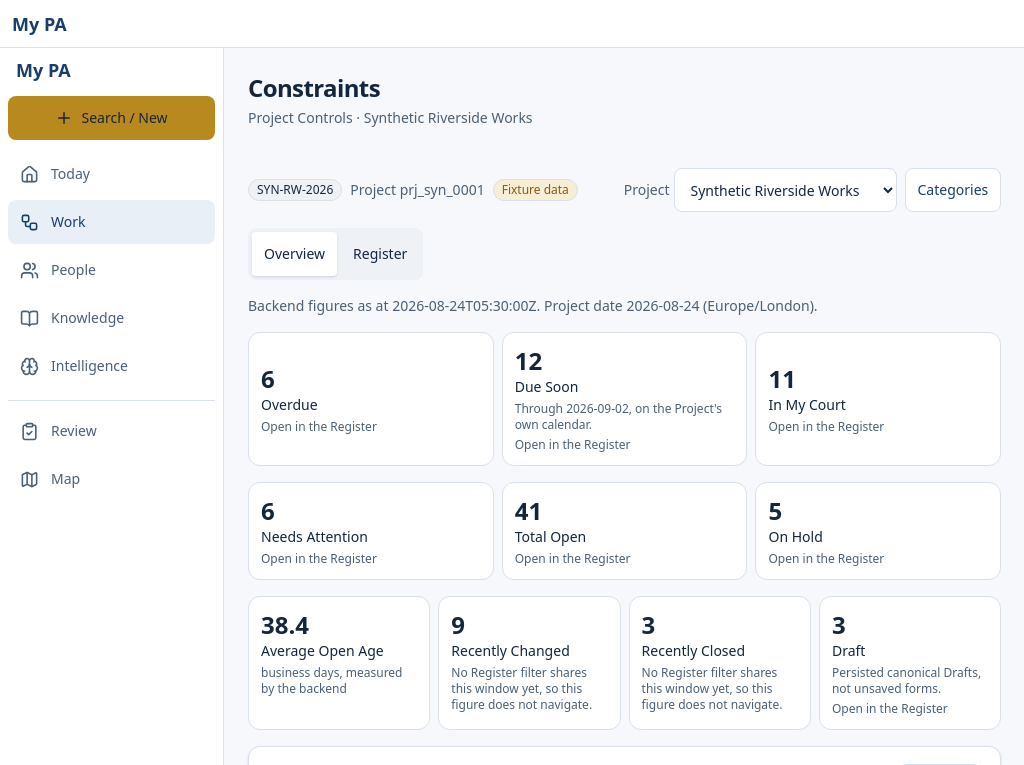
Test: the fixture-only lifecycle surfaces › offers no Category reorder, and says why
What coordinates should you click on to do the following:
click the button with test id "open-categories"
I would click on:
 (953, 190)
Its box is [904,168,1001,212].
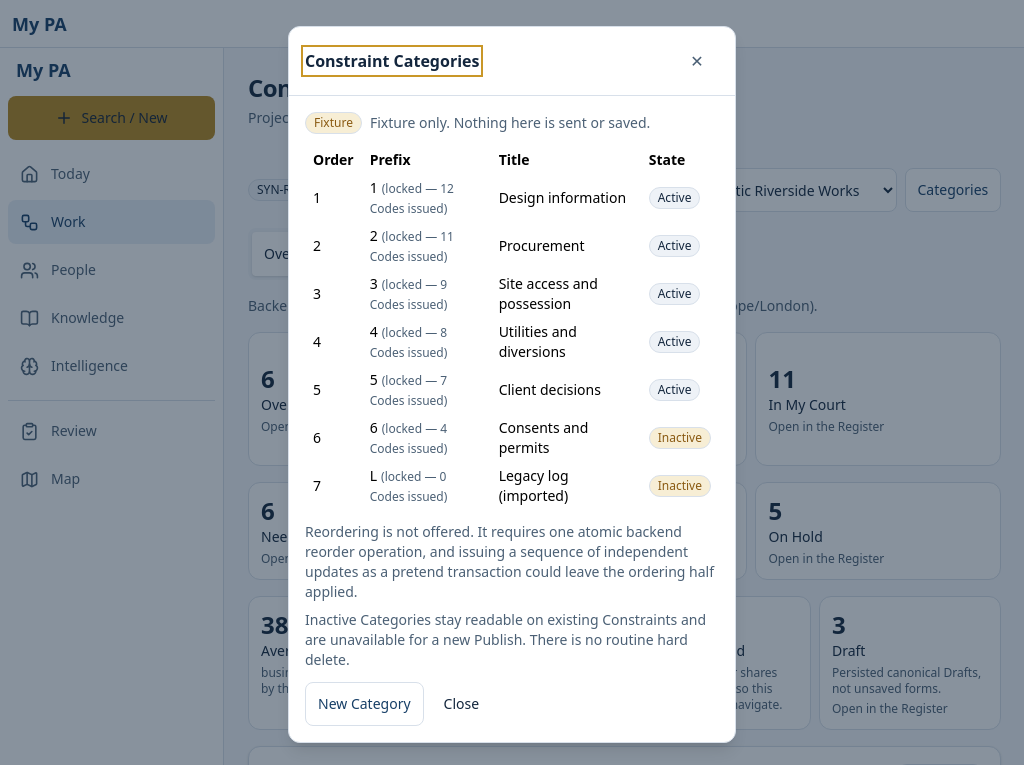
Now the text with test id "category-reorder-unavailable" shows "atomic backend reorder operation", box [305,522,714,600]
Now the text with test id "category-prefix-locked-cat_syn_0001" shows "locked", box [382,180,440,196]
